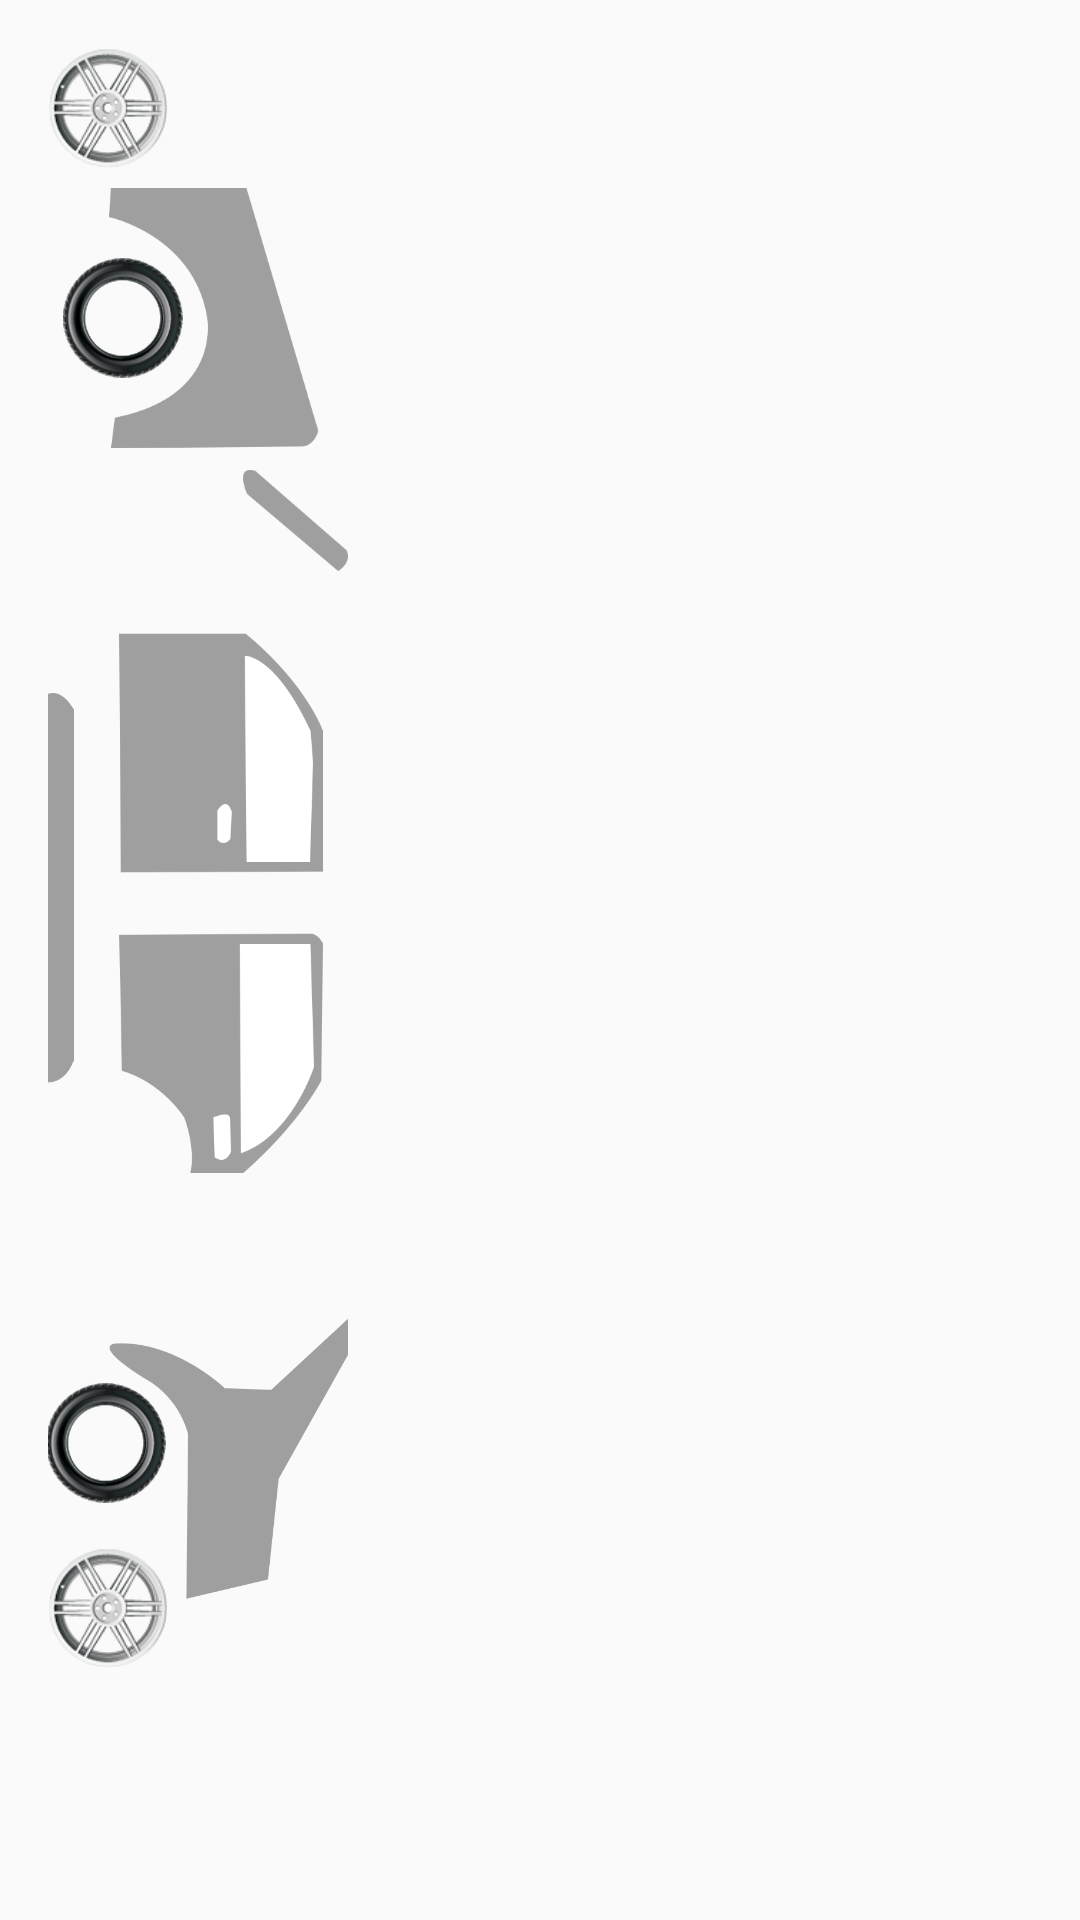

Screen size 1080px×1920px. Icon name, then its center in pixels as point (x, y):
door front left: point (221, 753)
door rear left: point (221, 1053)
quarter panel left: point (228, 1487)
rim: point (108, 106), point (108, 1606)
